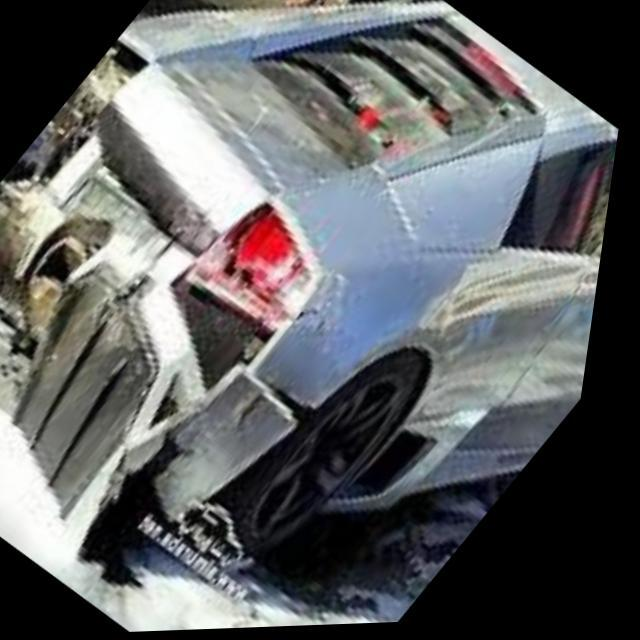no part: (0, 118, 281, 553), (64, 41, 151, 130)
